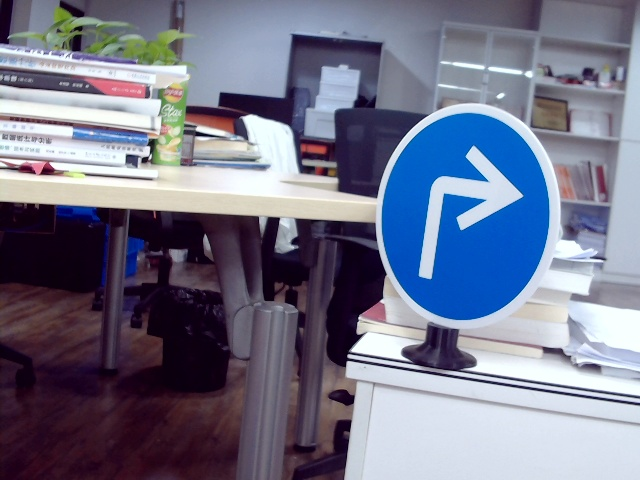turn_right: (419, 143, 519, 284)
